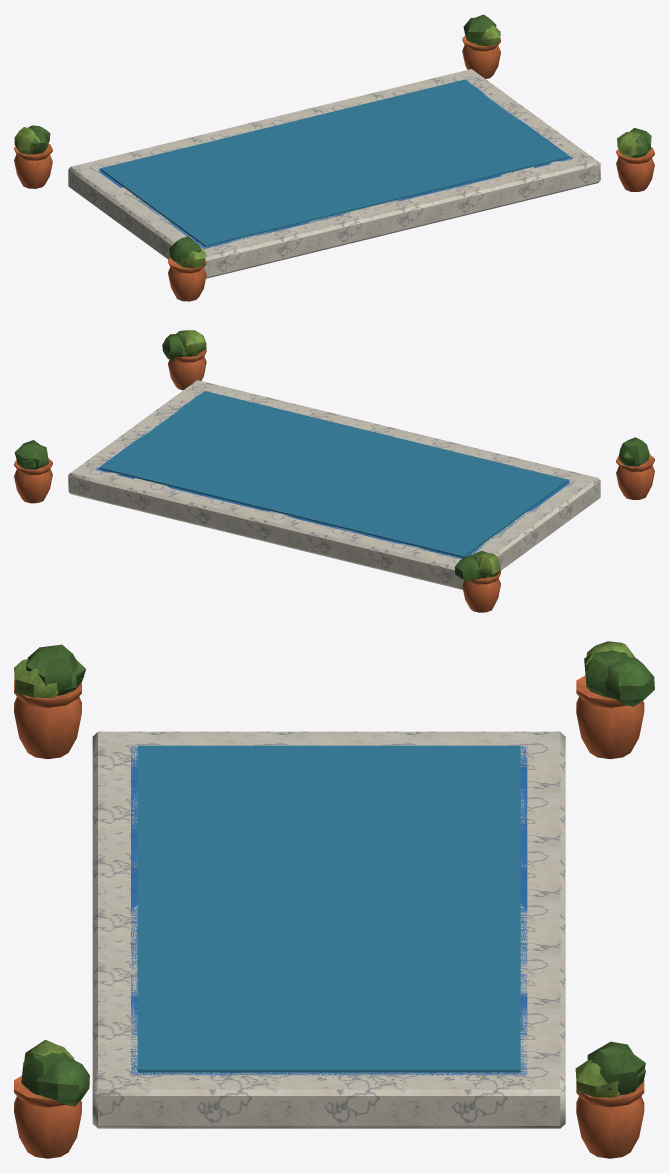
The model's file is water_reflecting-pool.glb.
3 renders of one model, top to bottom at view 1: azimuth 30°, elevation 25°; view 2: azimuth 150°, elevation 25°; view 3: azimuth 270°, elevation 25°, orthographic. The views are drawn at different scales.
Parts seen in each view (by area): view 1: water.001, step, terracotta, leaf_dark, leaf, paint_azure; view 2: water.001, step, terracotta, leaf_dark, paint_azure, leaf; view 3: water.001, step, terracotta, leaf_dark, paint_azure, leaf.
Part boxes in pixels (x1,y1,x2,y2): water.001: (100,80,568,246); step: (68,69,600,278); terracotta: (14,35,654,301); leaf_dark: (28,14,651,265); leaf: (14,25,643,268); paint_azure: (98,79,572,248); water.001: (100,391,568,557); step: (68,380,600,589); terracotta: (14,349,654,612); leaf_dark: (14,330,649,582); paint_azure: (96,391,569,558); leaf: (183,330,500,577); water.001: (137,745,520,1072); step: (92,731,565,1128); terracotta: (14,675,644,1158); leaf_dark: (21,644,654,1106); paint_azure: (131,746,527,1075); leaf: (14,641,635,1097).
Bounding box in the file's own units: 8 × 0.8924 × 5.02.
Materials: 6 (5 with a texture image).
